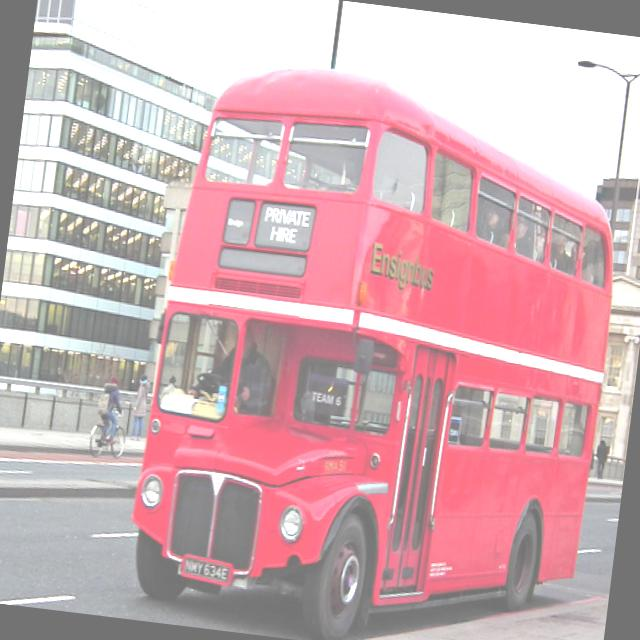Vehicle: (120, 49, 636, 640)
